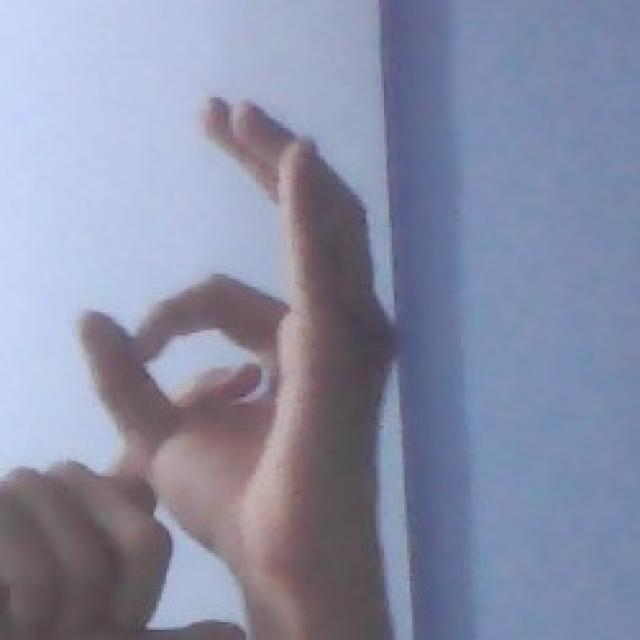Alphabet-Q: (0, 82, 408, 640)
